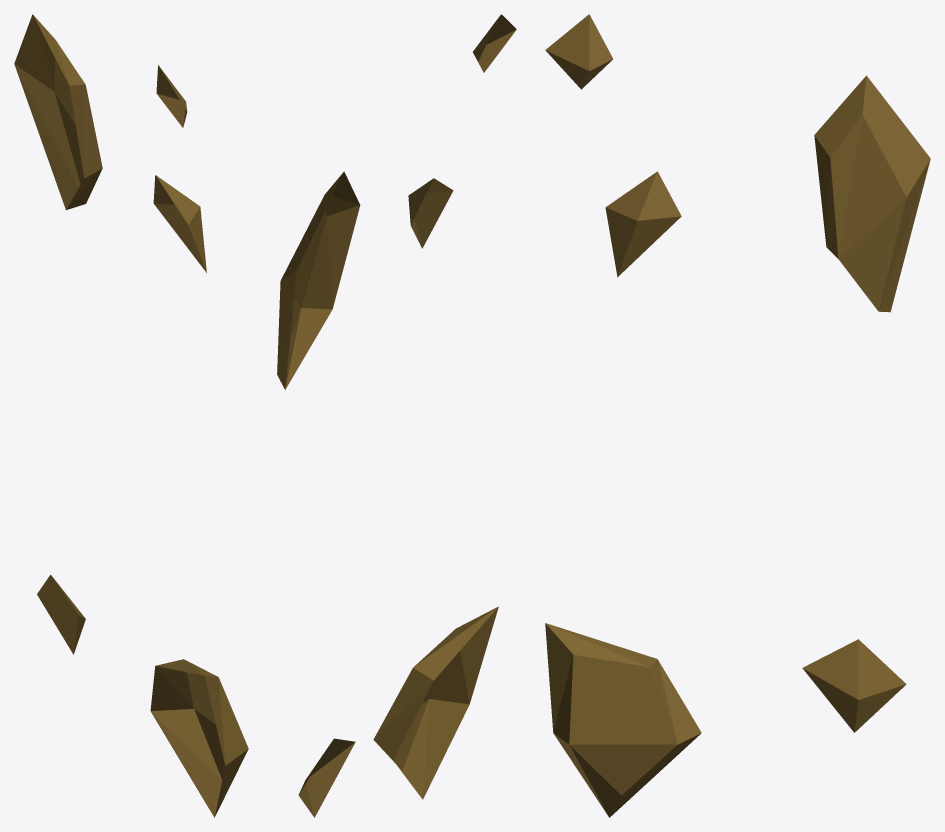
Rendered from obj_protruding_rocks_0.obj.
The picture shows the model from 3 angles, left to right: view 1: azimuth 30°, elevation 25°; view 2: azimuth 150°, elevation 25°; view 3: azimuth 270°, elevation 25°; orthographic projection. The views are drawn at different scales.
Size of the model in its own units: 0.1797 by 1.66 by 0.75.
